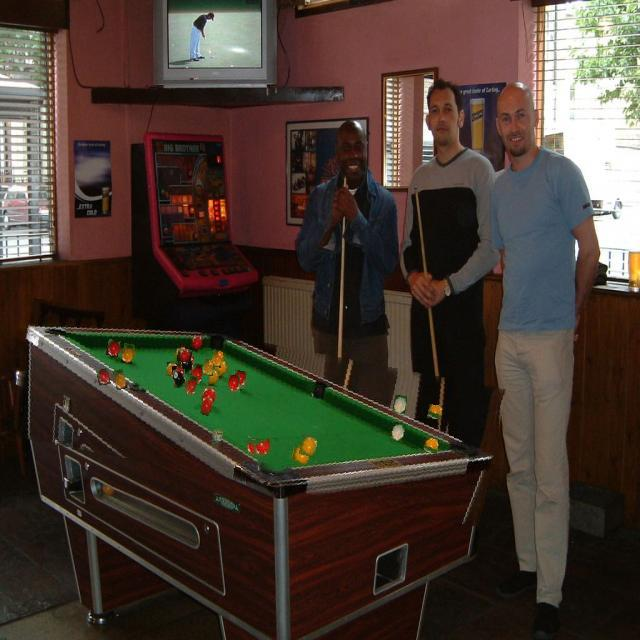Ball: (300, 435, 318, 457), (252, 438, 272, 456), (392, 396, 407, 414), (113, 370, 126, 390), (166, 362, 181, 378), (185, 376, 197, 396), (427, 405, 443, 420), (97, 369, 111, 386), (173, 370, 186, 388), (201, 398, 213, 416), (228, 375, 240, 393), (202, 360, 214, 376), (209, 370, 220, 387), (178, 349, 192, 362), (172, 366, 180, 378)
Billiard table: (11, 321, 502, 505)
